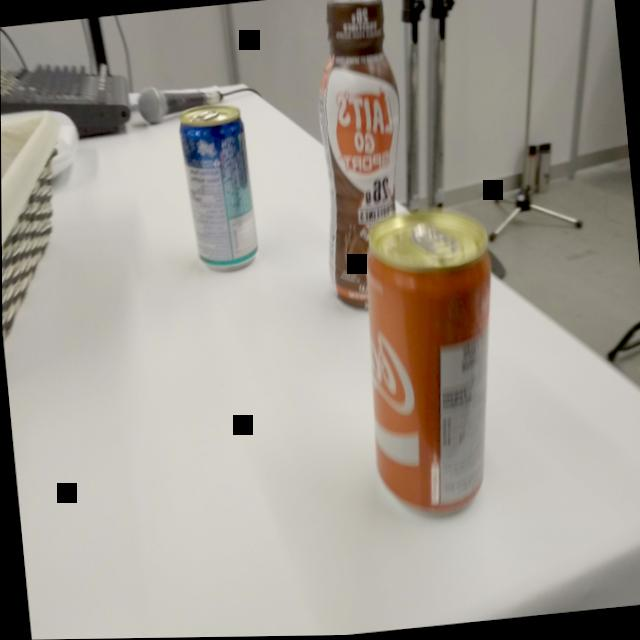chocolate_drink: (299, 0, 422, 321)
coke: (346, 201, 516, 525)
sprite: (172, 102, 264, 280)
